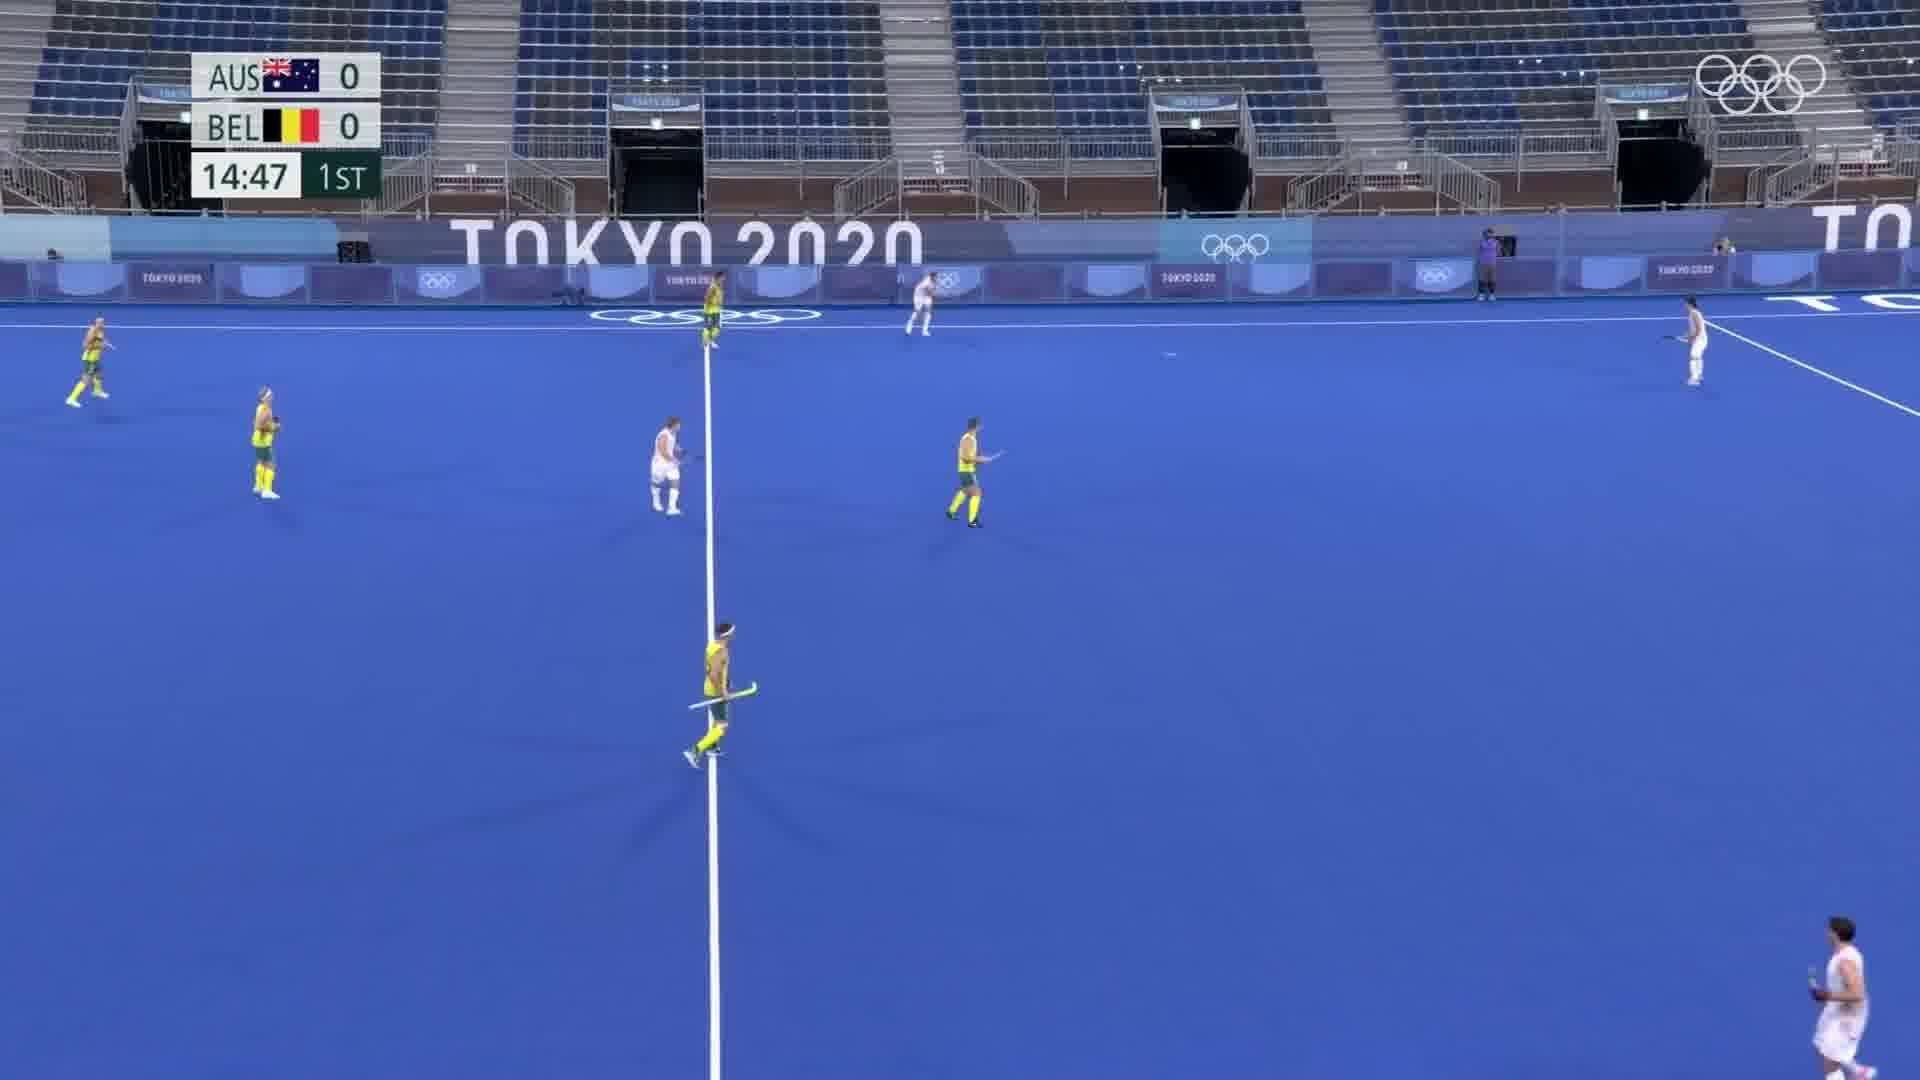ball: (1154, 342, 1187, 368)
